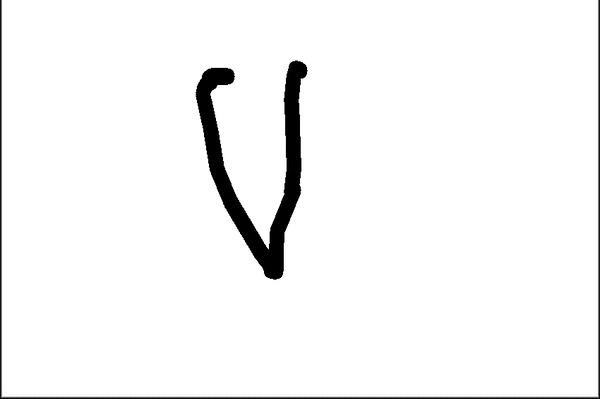V: (182, 50, 318, 286)
